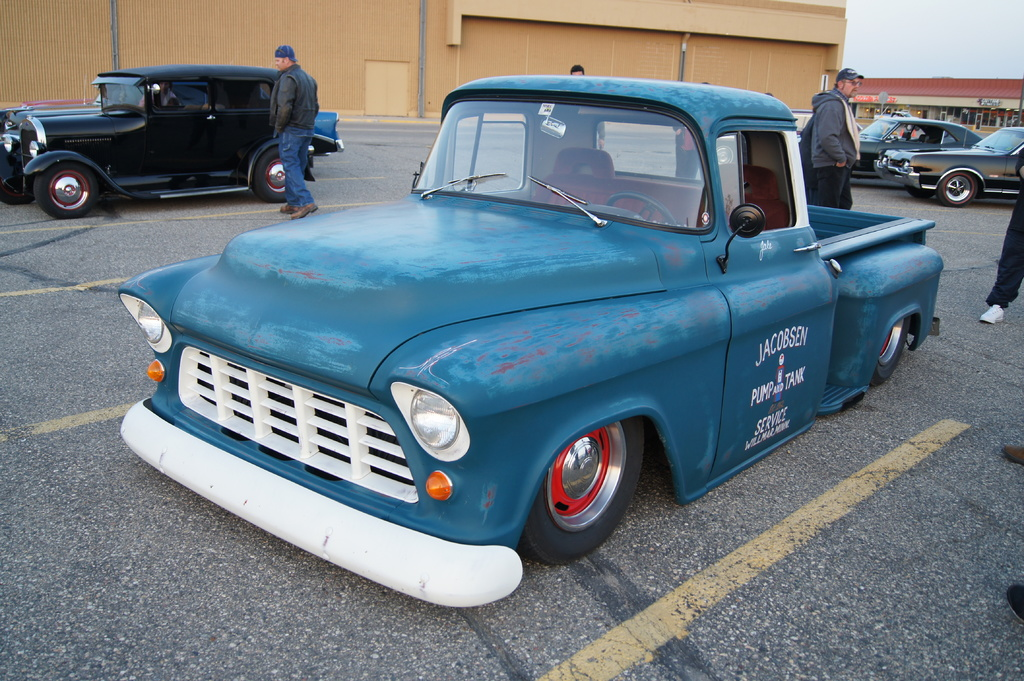car: (125, 69, 972, 590), (0, 54, 341, 201), (808, 87, 982, 194), (880, 101, 1021, 211)
